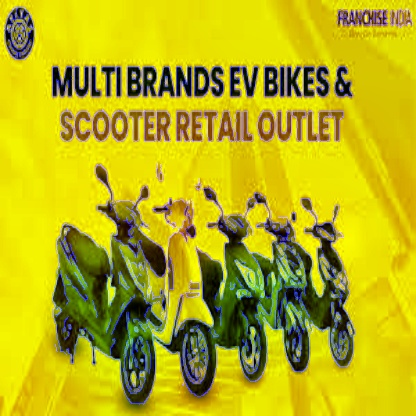bike: (54, 161, 155, 406), (143, 193, 216, 391), (202, 198, 268, 376), (161, 193, 218, 396), (305, 208, 366, 371), (216, 198, 268, 386), (261, 206, 312, 381), (269, 213, 311, 379), (318, 210, 354, 366)
